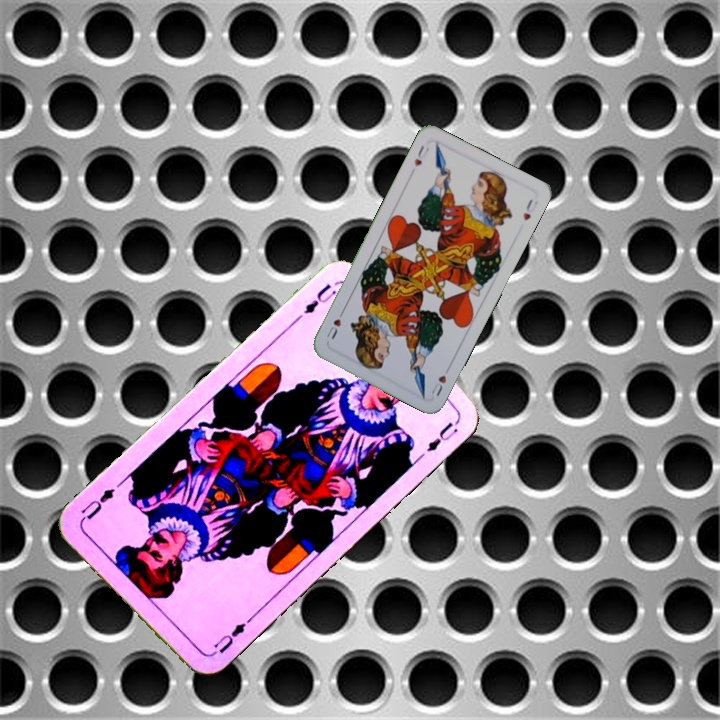EU: (207, 618, 249, 659), (299, 280, 339, 317)
HU: (427, 362, 453, 399), (410, 141, 432, 169)
